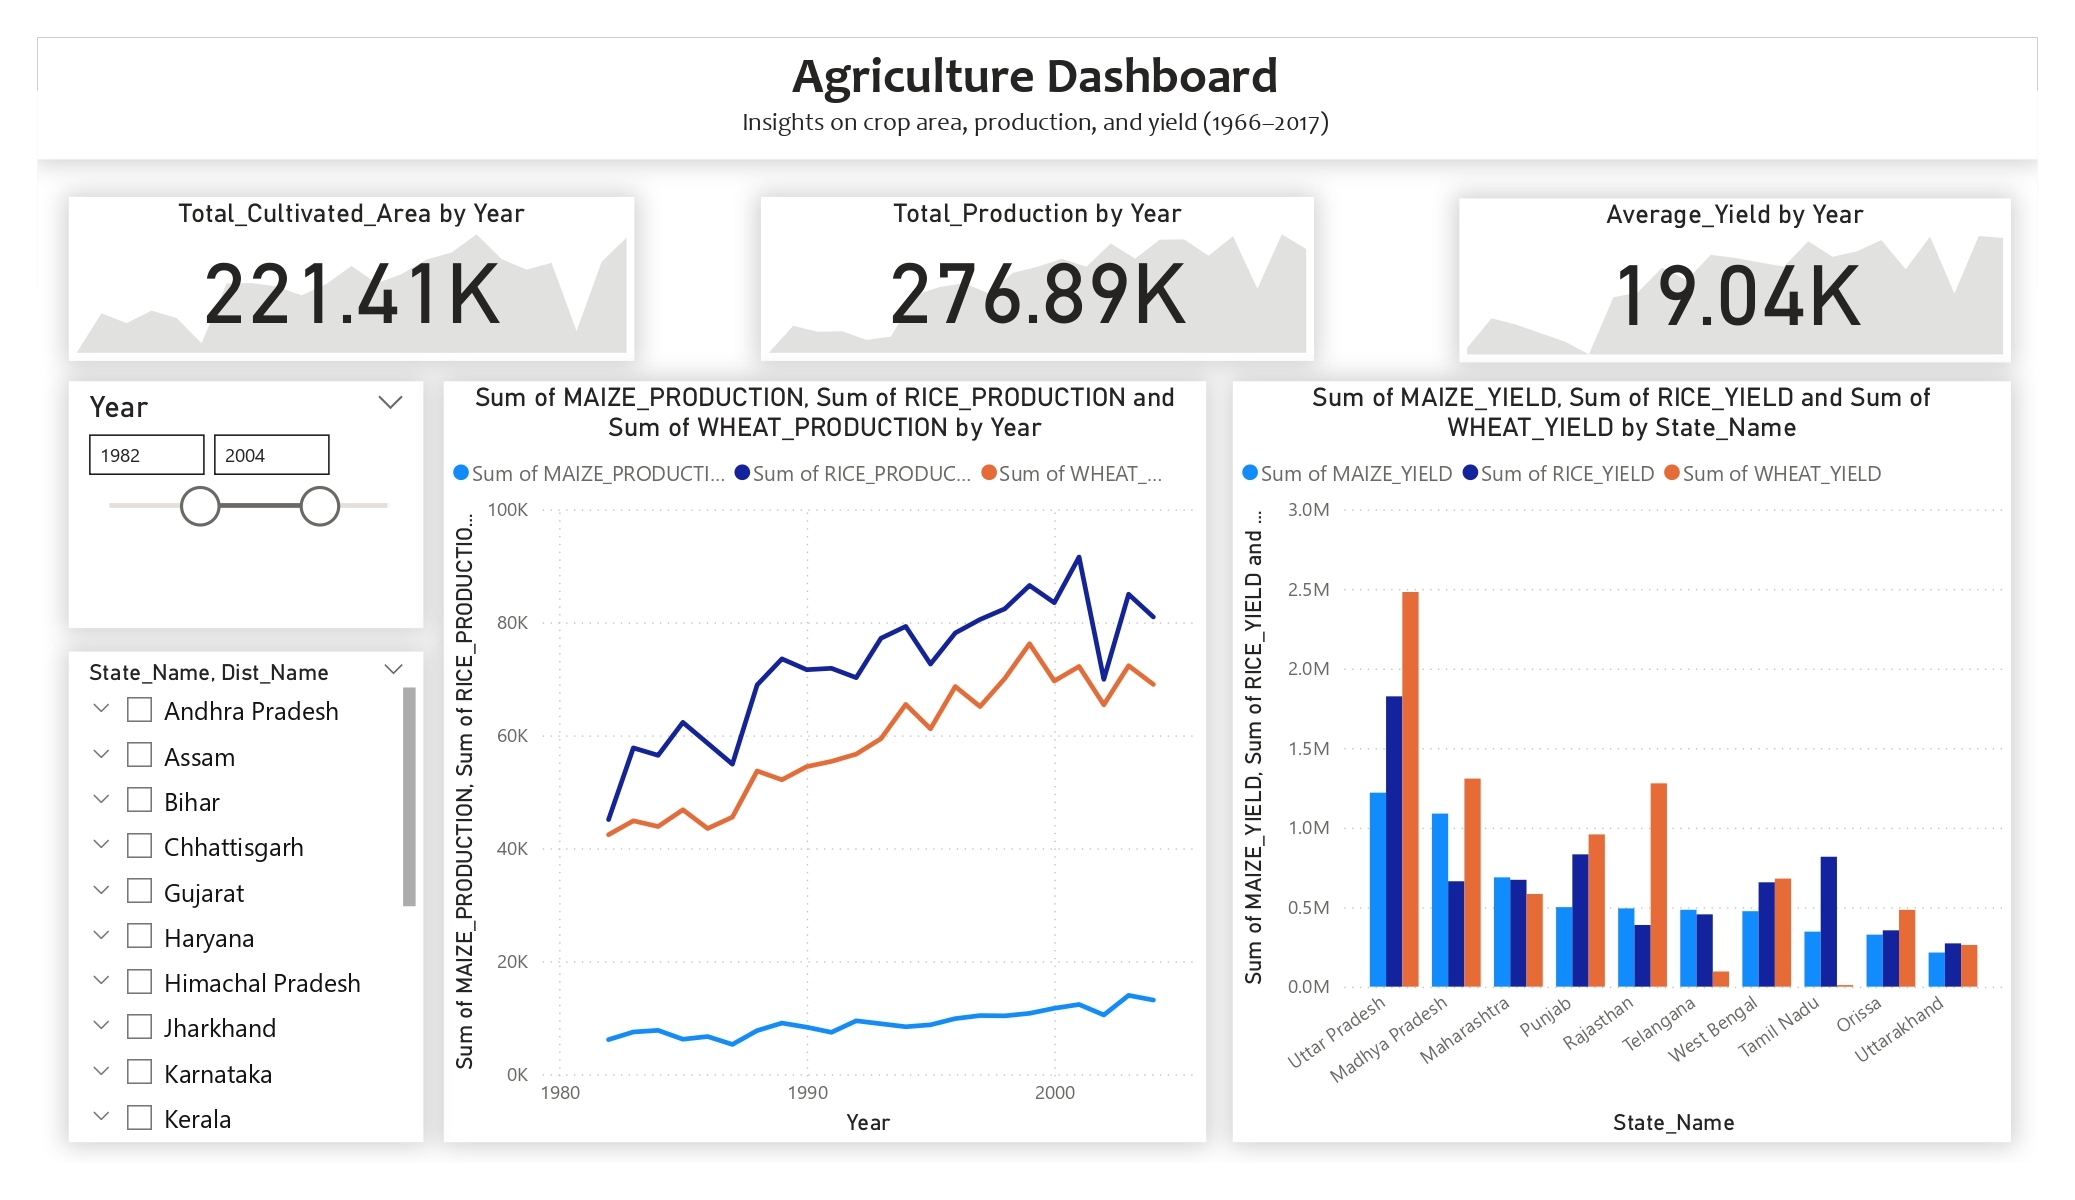

Layout of this report page (visuals, bound fields, positions):
{"tool":"powerbi","page":{"name":"Page 1","canvas":[1280,720],"ordinal":0},"visuals":[{"type":"textbox","box":[428.1,0,421.3,78.2],"z":0},{"type":"shape","box":[0,0,1280.3,78.2],"z":1000},{"type":"kpi","fields":{"TrendLine":["agri_data.Year"],"Indicator":["agri_data.Total_Cultivated_Area"]},"box":[20,101.7,361.7,105],"z":2000},{"type":"kpi","fields":{"Indicator":["agri_data.Total_Production"],"TrendLine":["agri_data.Year"]},"box":[463.3,101.7,353.3,105],"z":3000},{"type":"kpi","fields":{"TrendLine":["agri_data.Year"],"Indicator":["agri_data.Average_Yield"]},"box":[910,103.3,353.3,105],"z":4000},{"type":"slicer","fields":{"Values":["agri_data.Year"]},"box":[20,220,226.7,158.3],"z":5000},{"type":"lineChart","fields":{"Category":["agri_data.Year"],"Y":["Sum(agri_data.MAIZE_PRODUCTION)","Sum(agri_data.RICE_PRODUCTION)","Sum(agri_data.WHEAT_PRODUCTION)"]},"box":[260,220,488.3,486.7],"z":6000},{"type":"slicer","fields":{"Values":["agri_data.State_Name","agri_data.Dist_Name"]},"box":[20,393.3,226.7,313.3],"z":7000},{"type":"clusteredColumnChart","fields":{"Category":["agri_data.State_Name"],"Y":["Sum(agri_data.MAIZE_YIELD)","Sum(agri_data.RICE_YIELD)","Sum(agri_data.WHEAT_YIELD)"]},"box":[765,220,498.3,486.7],"z":8000}]}

Visuals, with their boxes on the page's 1280x720 design canvas (x1, y1, x2, y2). These are canvas units, not pixel positions in the 2075x1200 screenshot, which may show the page scaled, cropped or inside an application window:
textbox: <region>428, 0, 849, 78</region>
shape: <region>0, 0, 1280, 78</region>
kpi - agri_data.Year x agri_data.Total_Cultivated_Area: <region>20, 102, 382, 207</region>
kpi - agri_data.Total_Production x agri_data.Year: <region>463, 102, 817, 207</region>
kpi - agri_data.Year x agri_data.Average_Yield: <region>910, 103, 1263, 208</region>
slicer - agri_data.Year: <region>20, 220, 247, 378</region>
lineChart - agri_data.Year x Sum(agri_data.MAIZE_PRODUCTION): <region>260, 220, 748, 707</region>
slicer - agri_data.State_Name x agri_data.Dist_Name: <region>20, 393, 247, 707</region>
clusteredColumnChart - agri_data.State_Name x Sum(agri_data.MAIZE_YIELD): <region>765, 220, 1263, 707</region>
